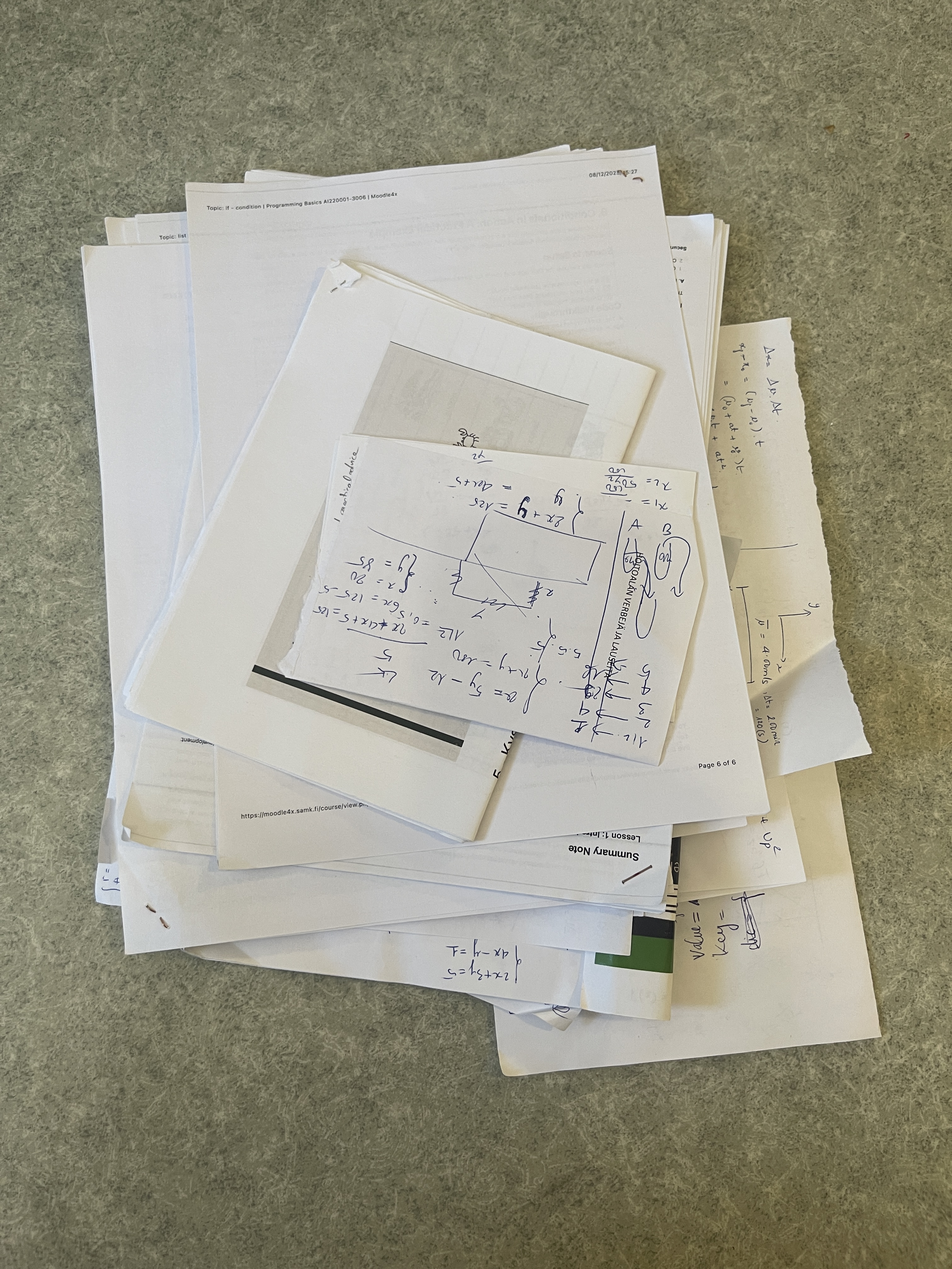paper: (73, 139, 892, 1091)
